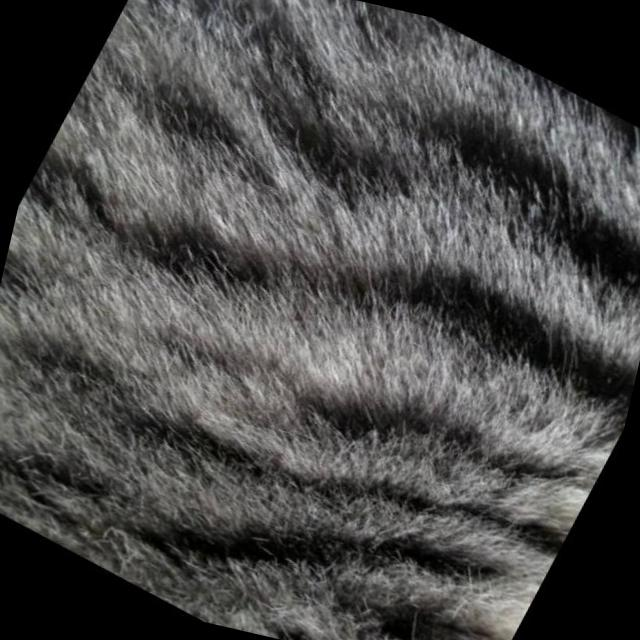Healthy skin: (18, 0, 457, 348), (0, 215, 375, 606), (317, 64, 640, 500), (260, 400, 556, 640)
